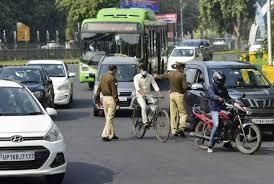helmet: (212, 71, 226, 90)
nohelmet: (176, 61, 187, 75), (108, 63, 118, 77), (139, 63, 149, 76)
